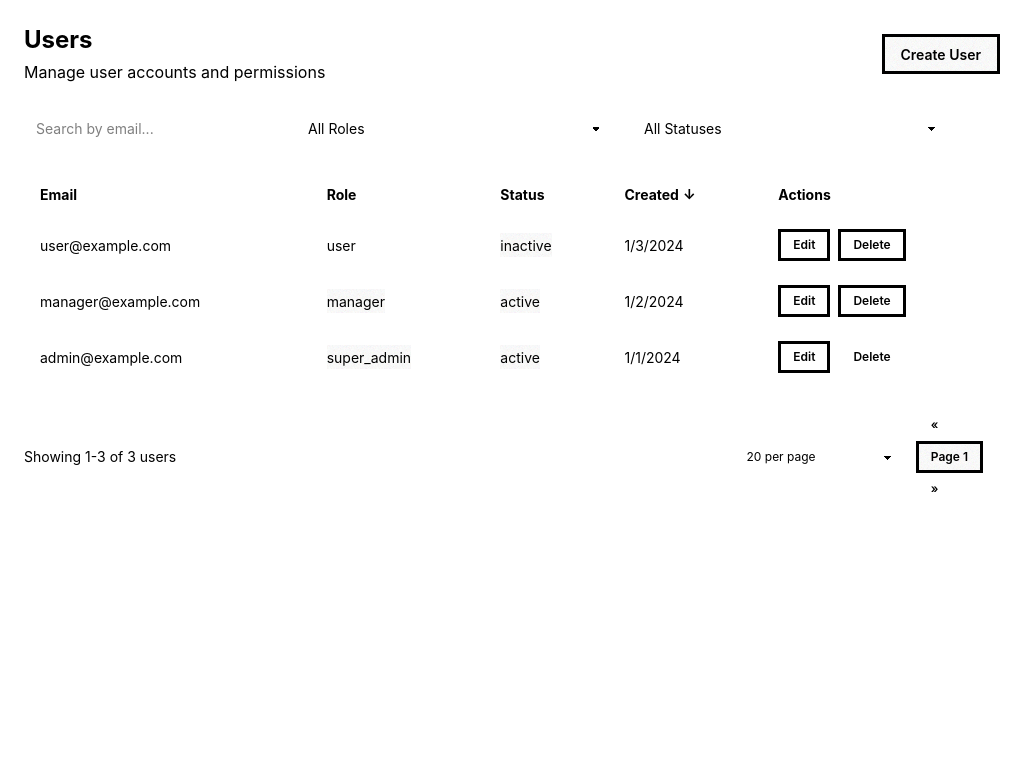
Test: UsersTable › Create User Modal › should open create modal when create button clicked
Click the button with test id "create-user-btn".
click(941, 54)  # box [882,34,1000,74]
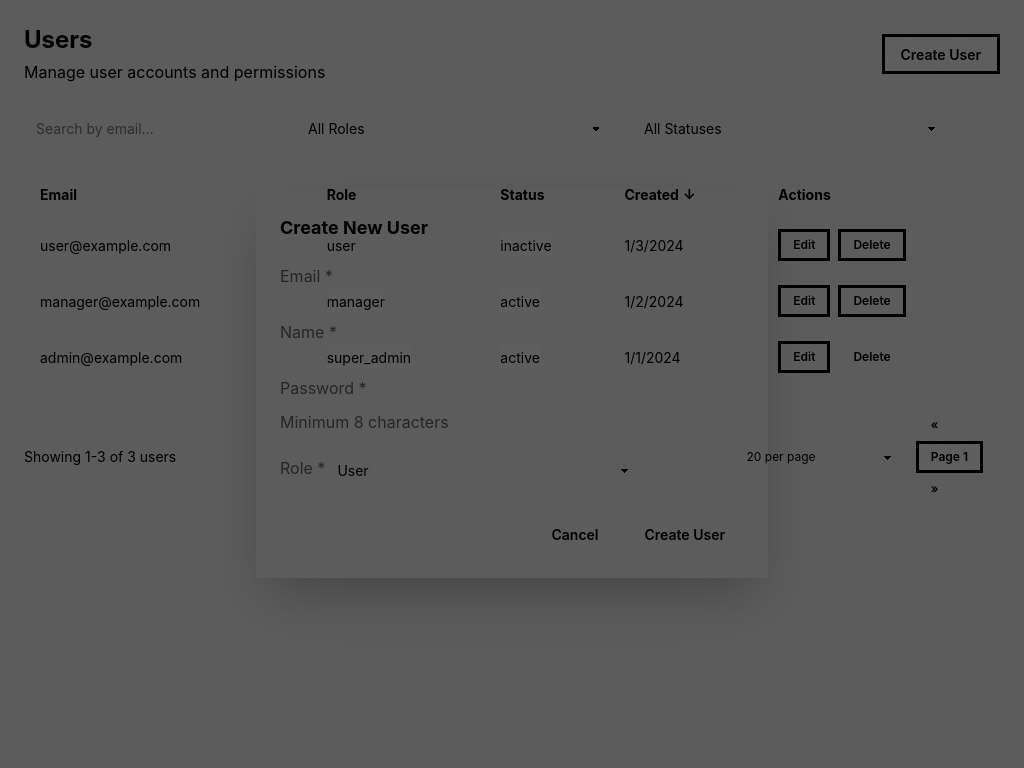
expect the dialog with test id "create-user-modal" is shown: met
